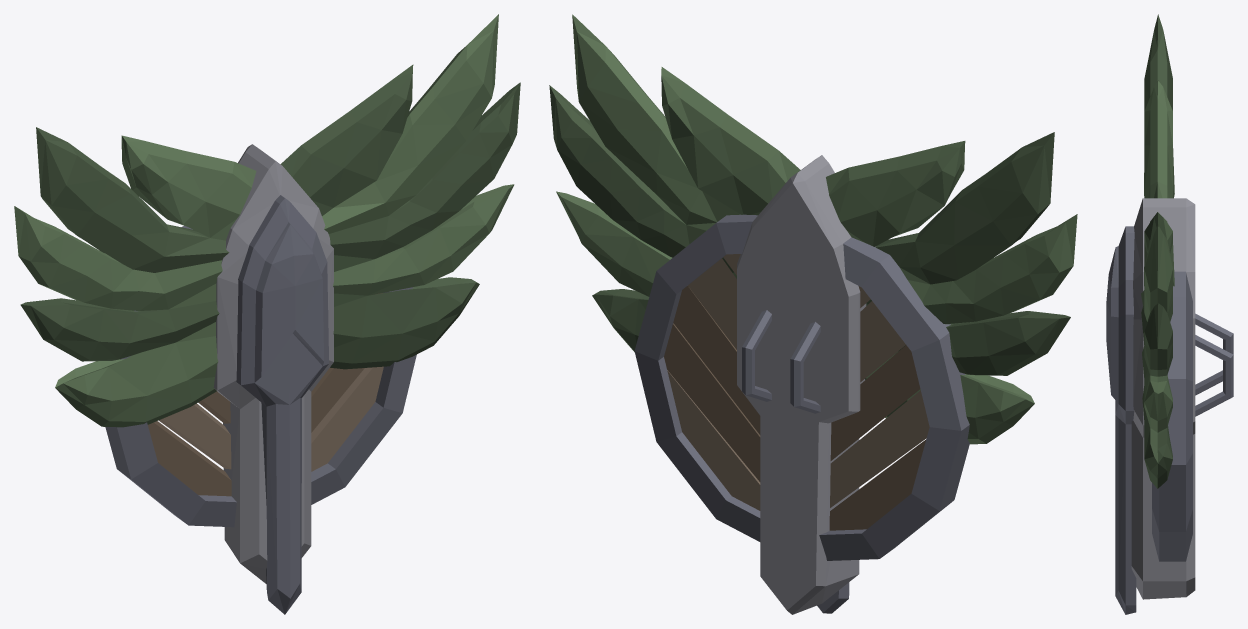
Rendered from _SHIELD_2.fbx.
3 views of the same model, side by side, from view 1: azimuth 30°, elevation 25°; view 2: azimuth 150°, elevation 25°; view 3: azimuth 270°, elevation 25° (orthographic). The views are drawn at different scales.
Visible parts, largest first — view 1: SHIELD_2; view 2: SHIELD_2; view 3: SHIELD_2.
Part boxes in pixels (left/top/right/bottom): SHIELD_2: left=14, top=14, right=520, bottom=614; SHIELD_2: left=549, top=14, right=1077, bottom=614; SHIELD_2: left=1106, top=14, right=1233, bottom=614.
Size of the model in its own units: 94.6 by 94.87 by 22.03.
